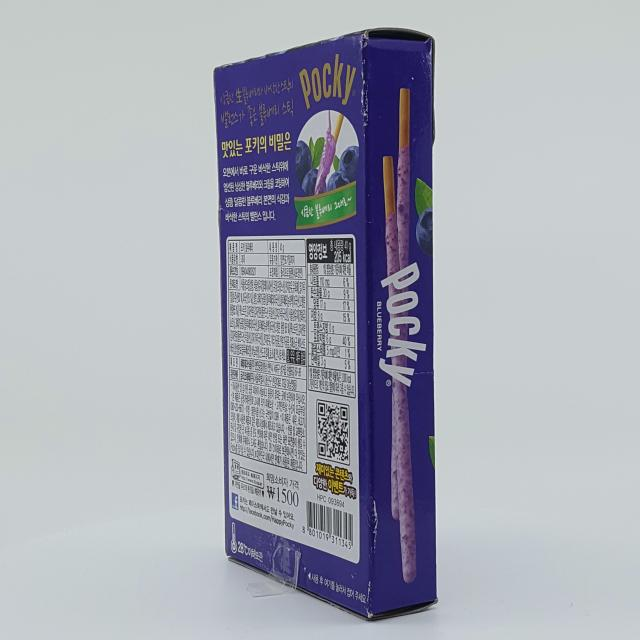-41G: (215, 29, 440, 622)
